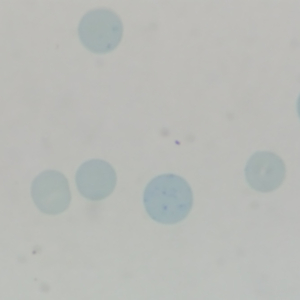erythrocyte: (27, 167, 73, 217), (73, 157, 119, 202), (243, 149, 288, 194)
punctate reticulocyte: (141, 172, 195, 226), (76, 7, 125, 55)
